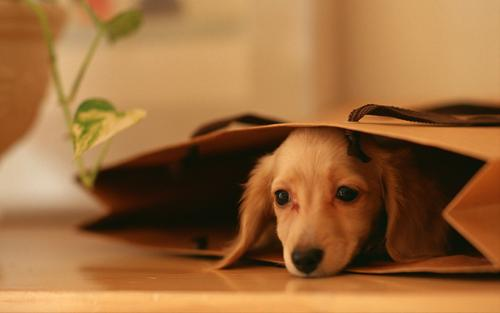dog: (220, 111, 408, 299)
